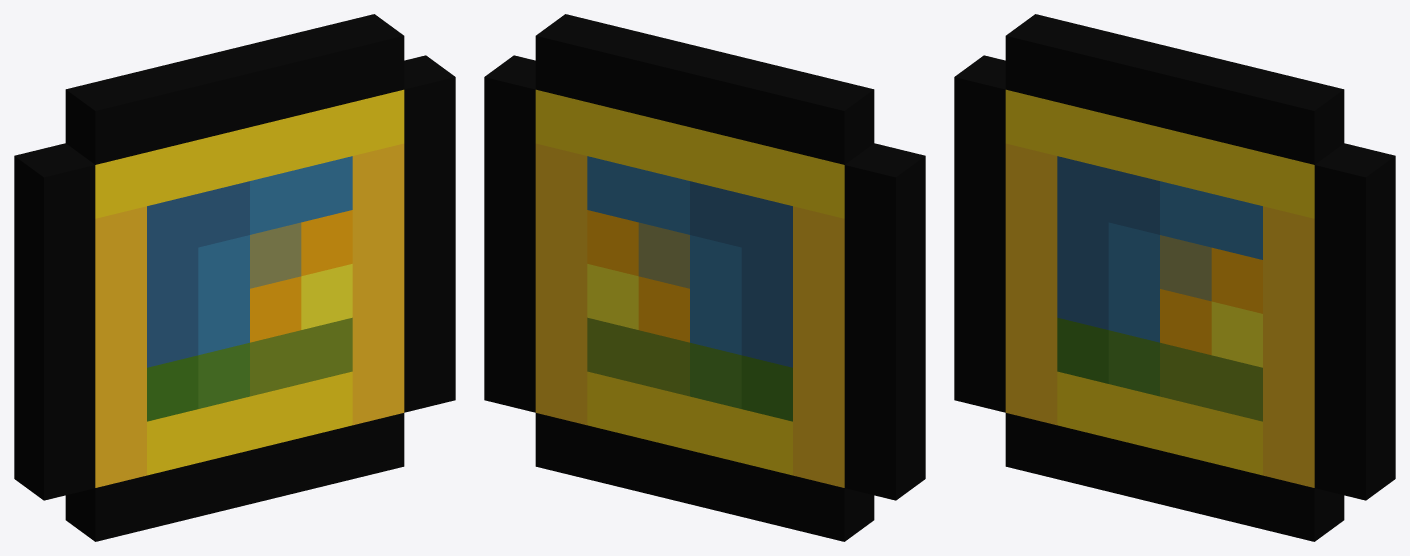
Rendered from clock_gold_sunset.glb.
3 renders of one model, left to right at view 1: azimuth 30°, elevation 25°; view 2: azimuth 150°, elevation 25°; view 3: azimuth 330°, elevation 25°, orthographic.
Visible parts, largest first — view 1: generated(Clone); view 2: generated(Clone); view 3: generated(Clone).
Boxes of the visible parts, box(x1,y1,x2,y2) form: generated(Clone): box(14, 14, 455, 541); generated(Clone): box(484, 14, 925, 541); generated(Clone): box(954, 14, 1395, 541).
Bounding box in the file's own units: 8 × 8 × 1.
1 material, 1 textured.
